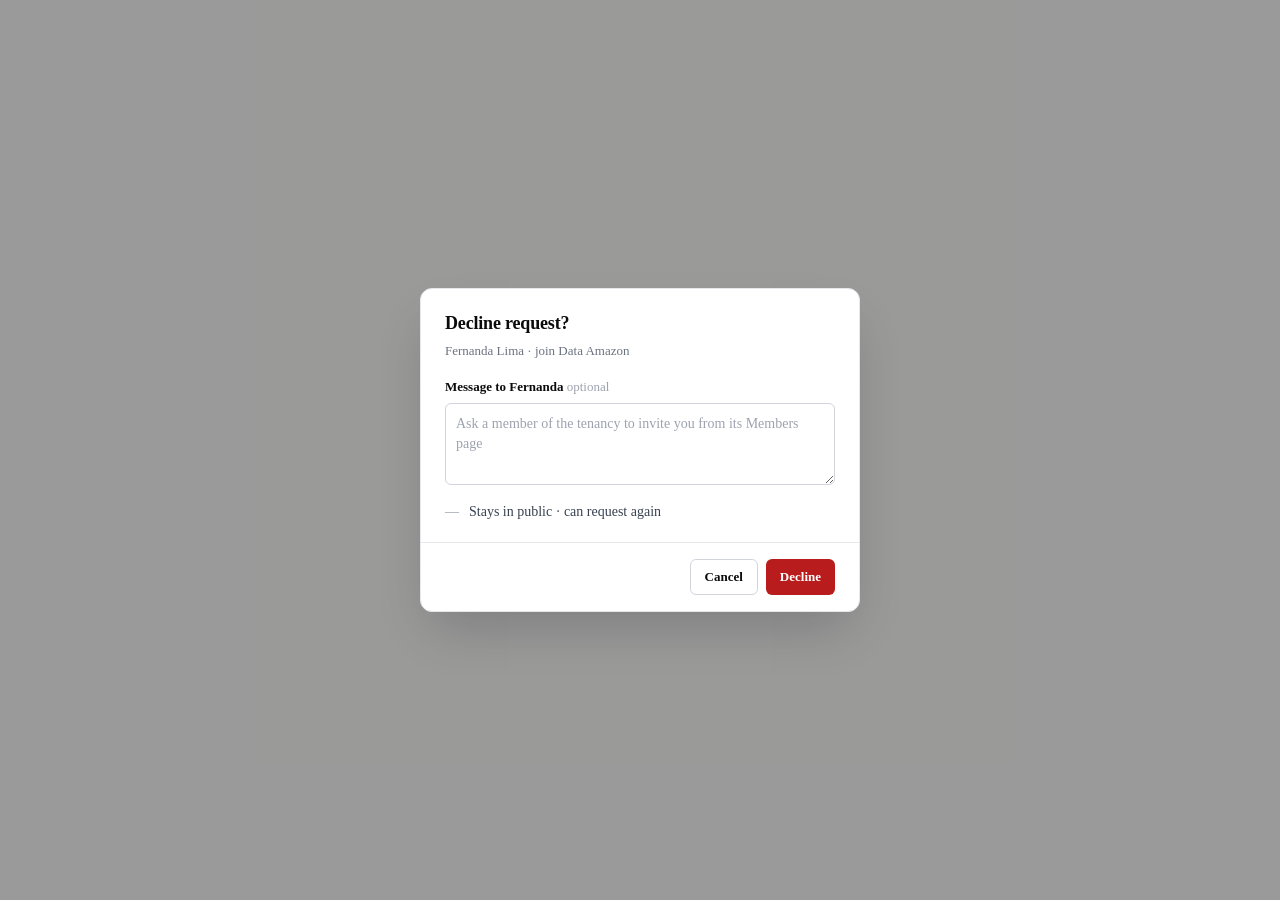
Test: DeclineRequestDialog › says so when another admin decided first, and stays open
The width and height of the screenshot is (1280, 900).
Click the button "Decline": (800, 577) [766,559,835,595]
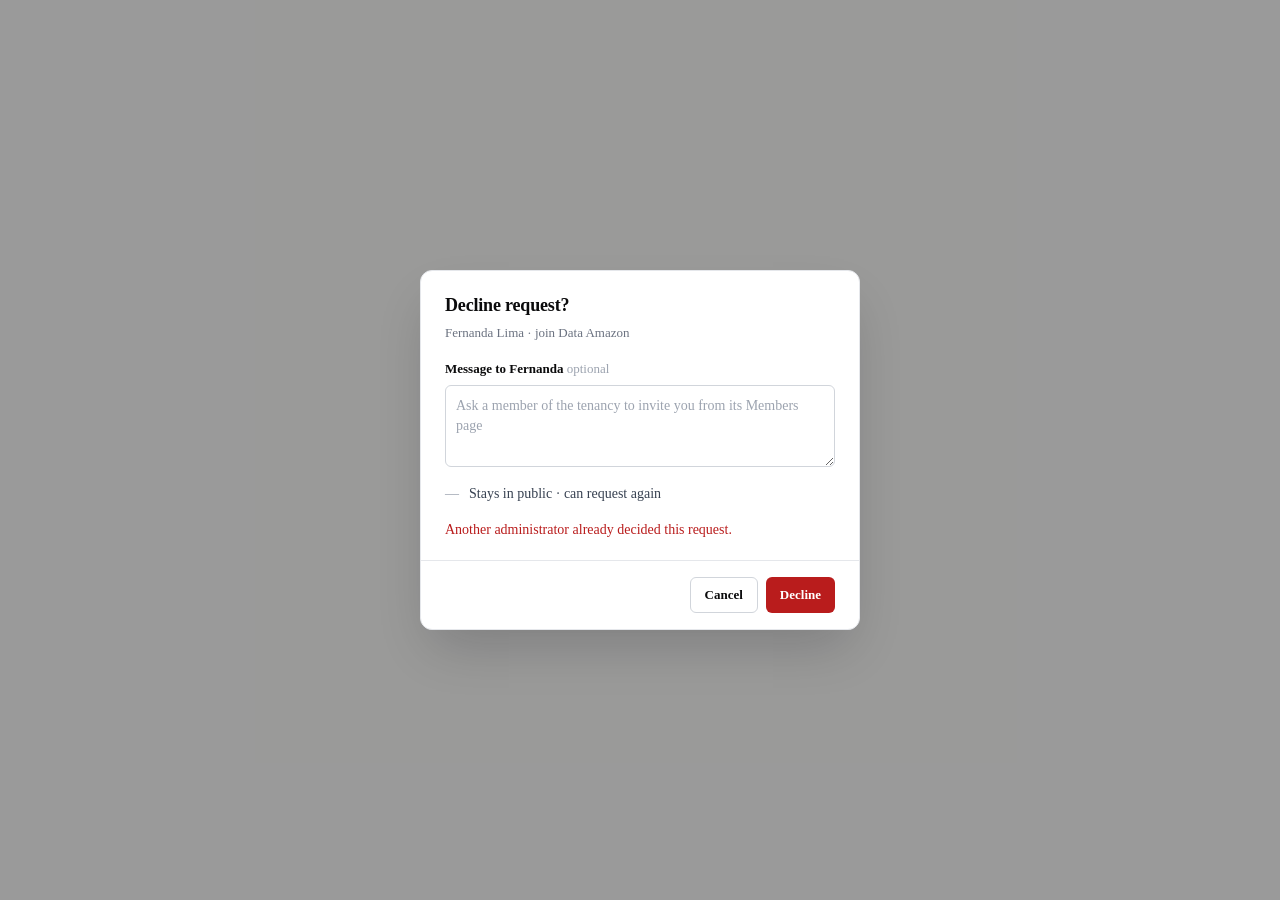
Expected: the text "Another administrator already decided this request." is shown, [445,522,732,537]
